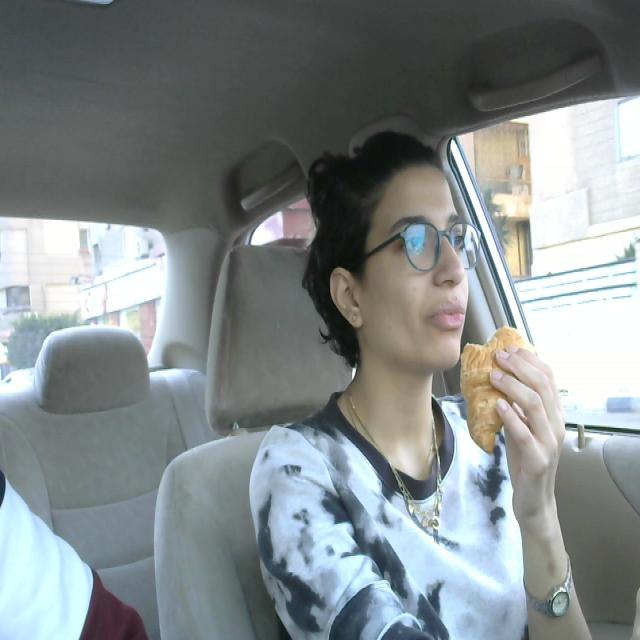eating: (456, 310, 537, 464)
